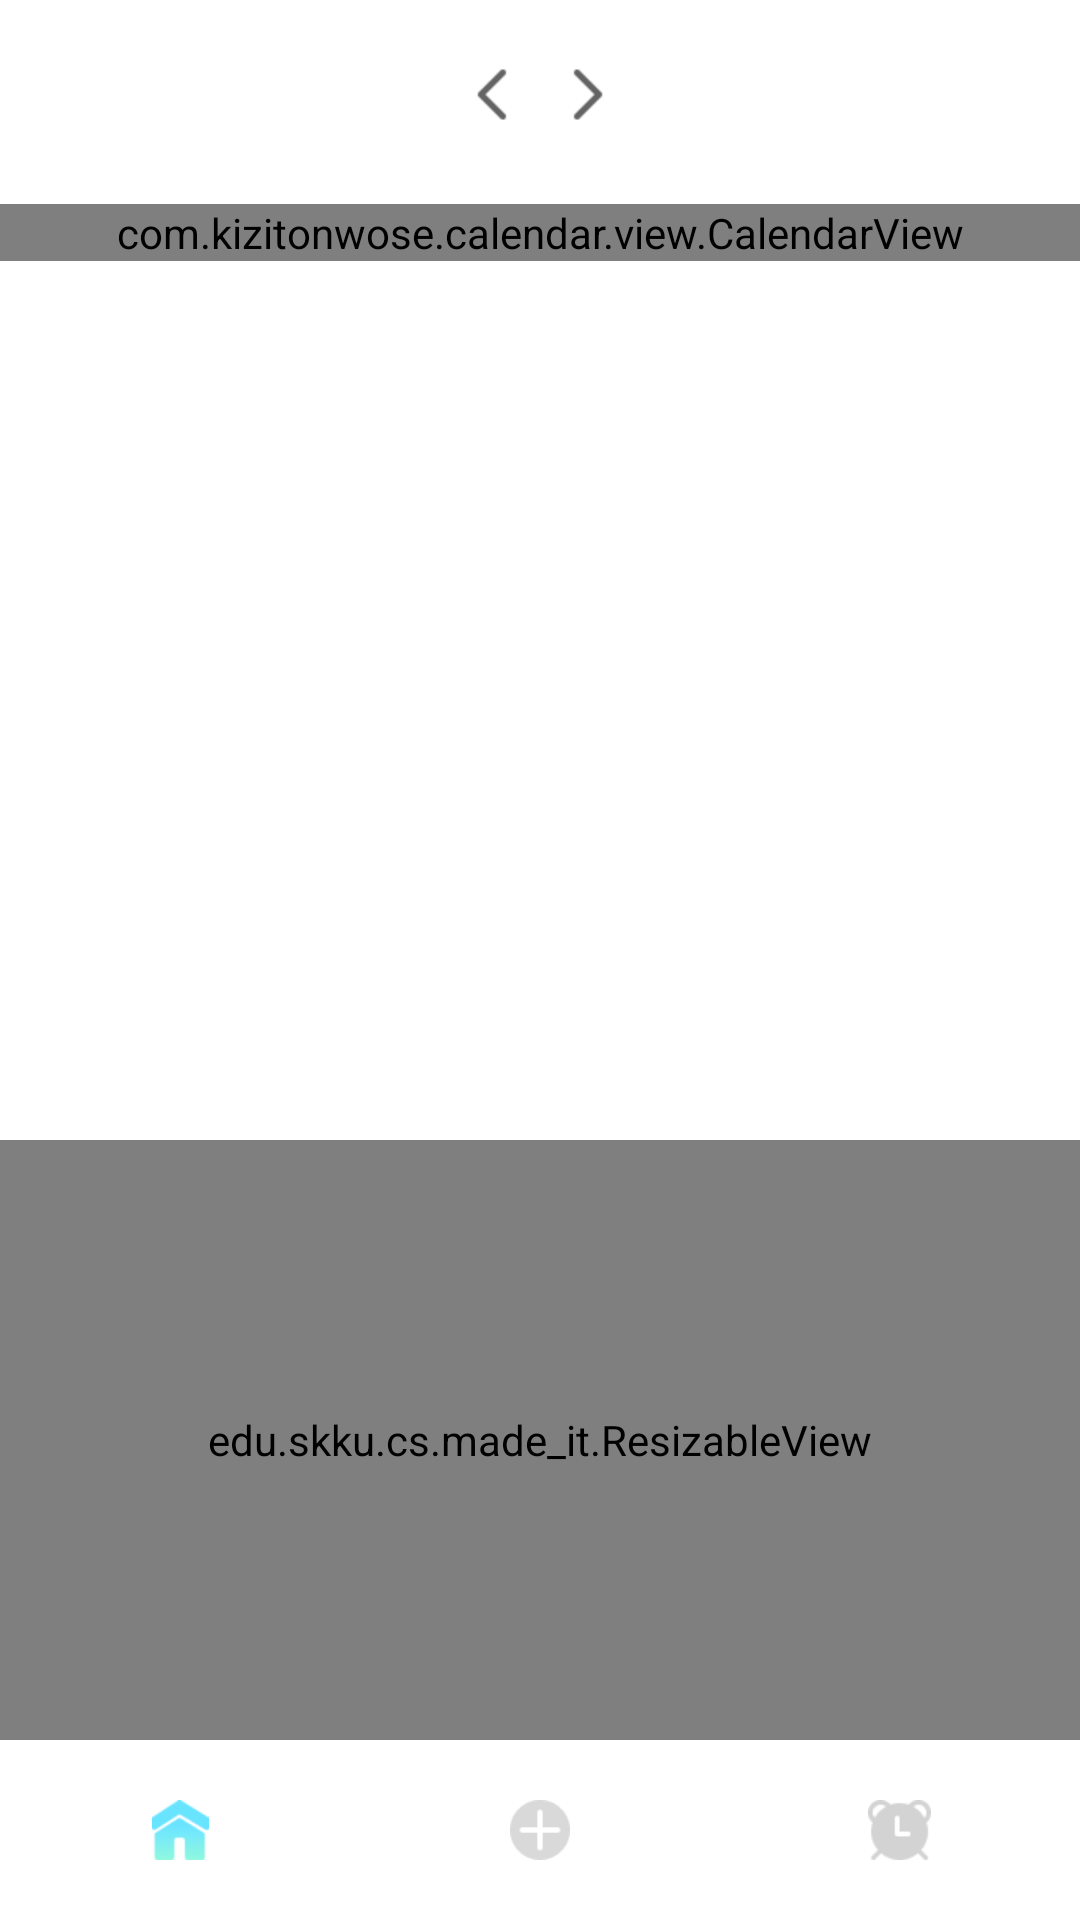

Where icons sit on this 1080px×1920px app screen, as bbox=(x1, y1, x2, y2):
add: bbox=(510, 1800, 570, 1860)
home: bbox=(152, 1800, 209, 1860)
next: bbox=(573, 69, 603, 120)
prev: bbox=(477, 69, 507, 120)
